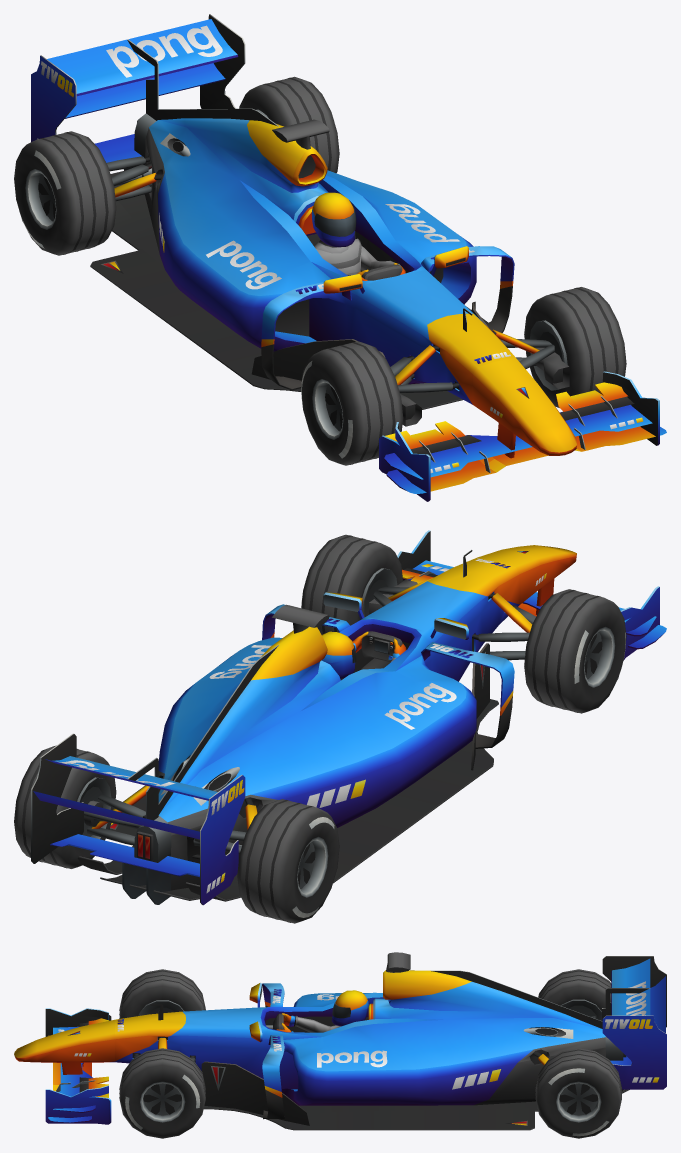
The model's file is Race_Car_6A.fbx.
3 renders of one model, top to bottom at view 1: azimuth 30°, elevation 25°; view 2: azimuth 150°, elevation 25°; view 3: azimuth 270°, elevation 25°, orthographic. The views are drawn at different scales.
Parts seen in each view (by area): view 1: Race_Car_6A_Body, Race_Car_6A_Rear_Wing, Race_Car_6A_Front_Wing, Wheel_6A_R.R, Wheel_6A_F.R, Wheel_6A_F.L, Race_Car_6A_Nose, Wheel_6A_R.L, Race_Car_6A_Body_Livery, Race_Car_6A_Rear_Wing_Livery, Helmet_6A, Wheel_Pivot_6A_F.L (+4 smaller); view 2: Race_Car_6A_Body, Race_Car_6A_Rear_Wing, Wheel_6A_F.R, Wheel_6A_R.R, Wheel_6A_F.L, Wheel_6A_R.L, Race_Car_6A_Front_Wing, Race_Car_6A_Nose, Race_Car_6A_Body_Livery, Suspension_6A_R.L, Suspension_6A_F.R, Helmet_6A (+5 smaller); view 3: Race_Car_6A_Body, Race_Car_6A_Rear_Wing, Wheel_6A_R.L, Wheel_6A_F.L, Race_Car_6A_Front_Wing, Race_Car_6A_Nose, Wheel_6A_F.R, Wheel_6A_R.R, Race_Car_6A_Body_Livery, Helmet_6A, Race_Car_6A_Rear_Wing_Livery, Driver_6A (+2 smaller).
Part boxes in pixels (x1,y1,x2,y2): Race_Car_6A_Body: [90, 108, 516, 409]; Race_Car_6A_Rear_Wing: [31, 14, 245, 162]; Race_Car_6A_Front_Wing: [379, 371, 666, 501]; Wheel_6A_R.R: [14, 131, 116, 255]; Wheel_6A_F.R: [301, 341, 403, 465]; Wheel_6A_F.L: [524, 287, 626, 407]; Race_Car_6A_Nose: [473, 358, 576, 458]; Wheel_6A_R.L: [239, 76, 339, 173]; Race_Car_6A_Body_Livery: [101, 204, 510, 363]; Race_Car_6A_Rear_Wing_Livery: [37, 25, 222, 139]; Helmet_6A: [311, 192, 356, 247]; Wheel_Pivot_6A_F.L: [529, 320, 569, 390]; Race_Car_6A_Body: [77, 549, 520, 904]; Race_Car_6A_Rear_Wing: [31, 733, 245, 905]; Wheel_6A_F.R: [524, 589, 626, 713]; Wheel_6A_R.R: [237, 799, 339, 923]; Wheel_6A_F.L: [301, 534, 402, 634]; Wheel_6A_R.L: [14, 745, 116, 868]; Race_Car_6A_Front_Wing: [397, 530, 666, 660]; Race_Car_6A_Nose: [478, 545, 576, 614]; Race_Car_6A_Body_Livery: [110, 558, 510, 829]; Suspension_6A_R.L: [84, 785, 149, 845]; Suspension_6A_F.R: [472, 593, 535, 660]; Helmet_6A: [322, 631, 356, 678]; Race_Car_6A_Body: [115, 952, 629, 1130]; Race_Car_6A_Rear_Wing: [602, 956, 666, 1089]; Wheel_6A_R.L: [535, 1048, 621, 1138]; Wheel_6A_F.L: [119, 1048, 205, 1138]; Race_Car_6A_Front_Wing: [45, 1008, 111, 1124]; Race_Car_6A_Nose: [14, 1019, 114, 1074]; Wheel_6A_F.R: [119, 969, 205, 1018]; Wheel_6A_R.R: [538, 969, 611, 1011]; Race_Car_6A_Body_Livery: [117, 989, 527, 1125]; Helmet_6A: [331, 990, 369, 1026]; Race_Car_6A_Rear_Wing_Livery: [605, 981, 659, 1082]; Driver_6A: [276, 1013, 340, 1032].
Size of the model in its own units: 227 by 144 by 637.
